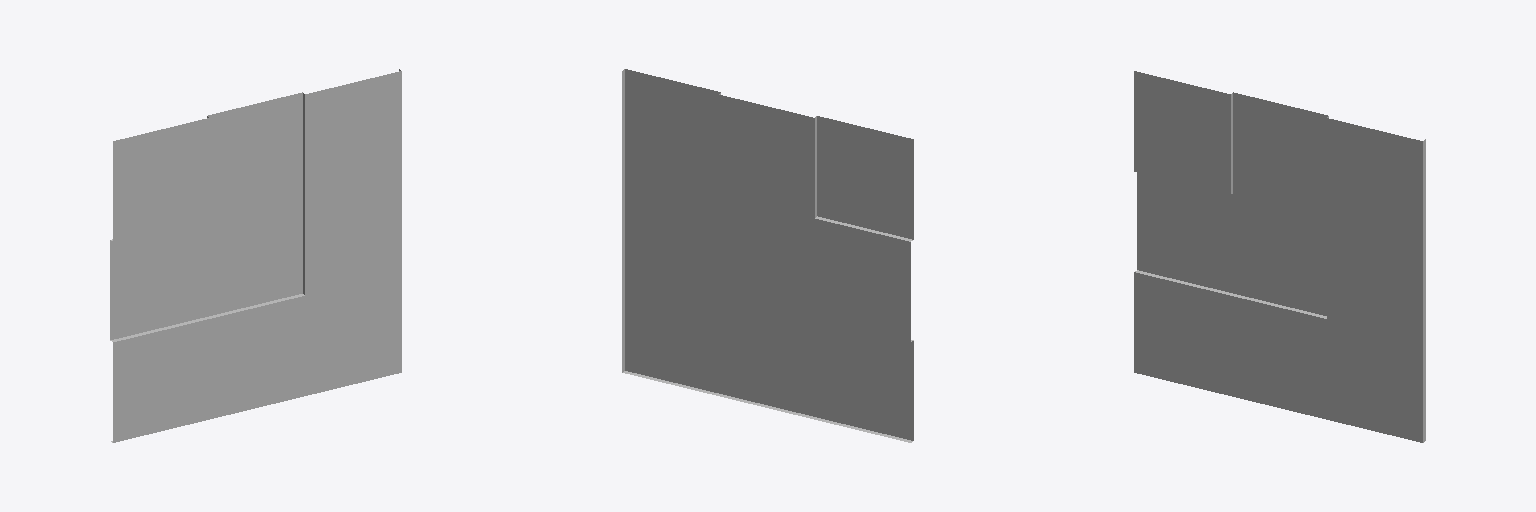
The model's file is roadTurn.obj.
3 renders of one model, left to right at view 1: azimuth 30°, elevation 25°; view 2: azimuth 150°, elevation 25°; view 3: azimuth 330°, elevation 25°, orthographic.
Parts seen in each view (by area): view 1: Plane.032_Plane.007; view 2: Plane.032_Plane.007; view 3: Plane.032_Plane.007.
Boxes of the visible parts, <box> form: Plane.032_Plane.007: <box>110,69,401,442</box>; Plane.032_Plane.007: <box>622,69,913,442</box>; Plane.032_Plane.007: <box>1134,71,1425,442</box>.
Size of the model in its own units: 6 by 6 by 0.1.